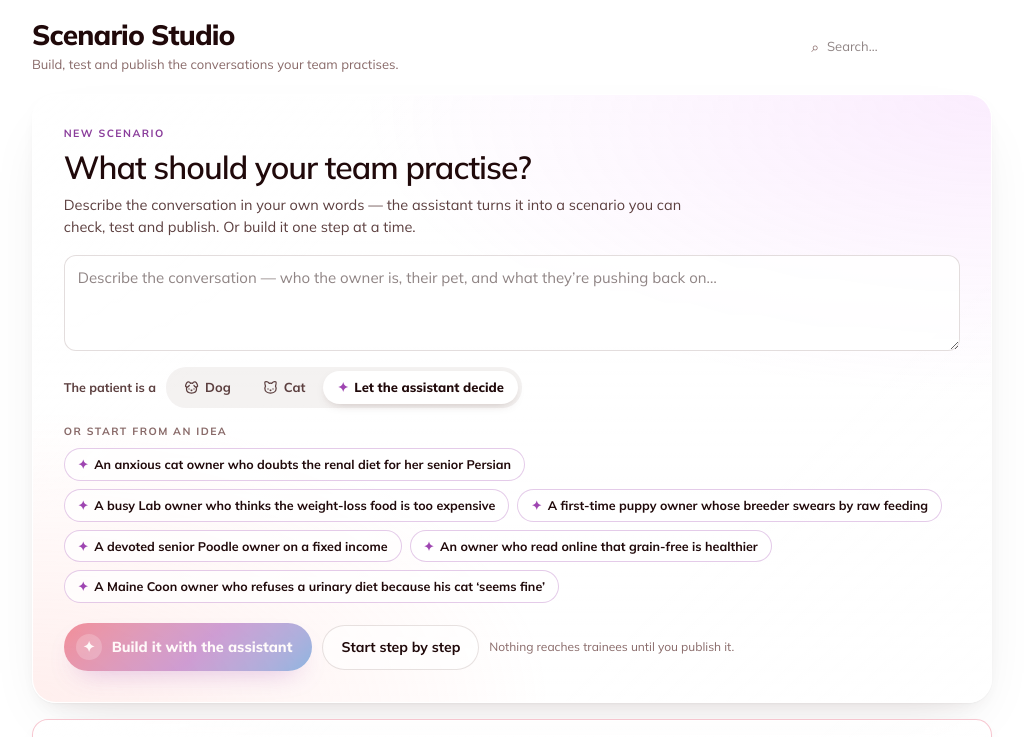
Test: StudioHome composer › fills the composer from a starter idea
The image size is (1024, 737).
Click the button "A busy Lab owner who thinks the weight-loss food".
click(286, 505)  # box [64,489,509,522]
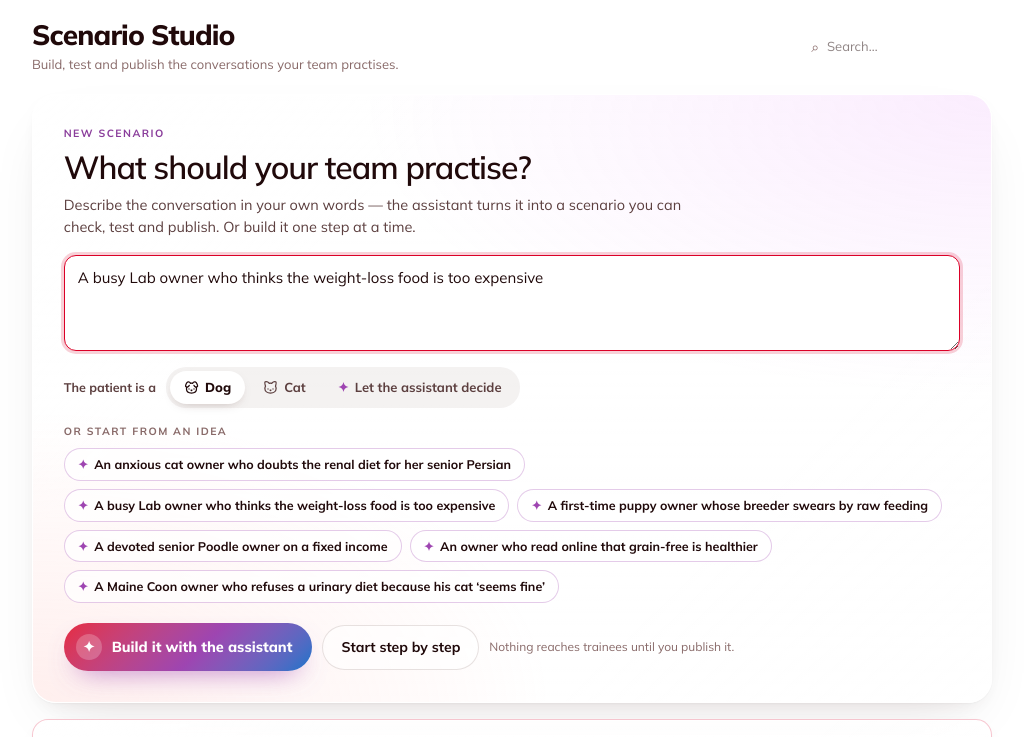
Check: the text box named "Describe the conversation" holds "A busy Lab owner who thinks the weight-loss food is too expensive", box [64,254,960,350]
